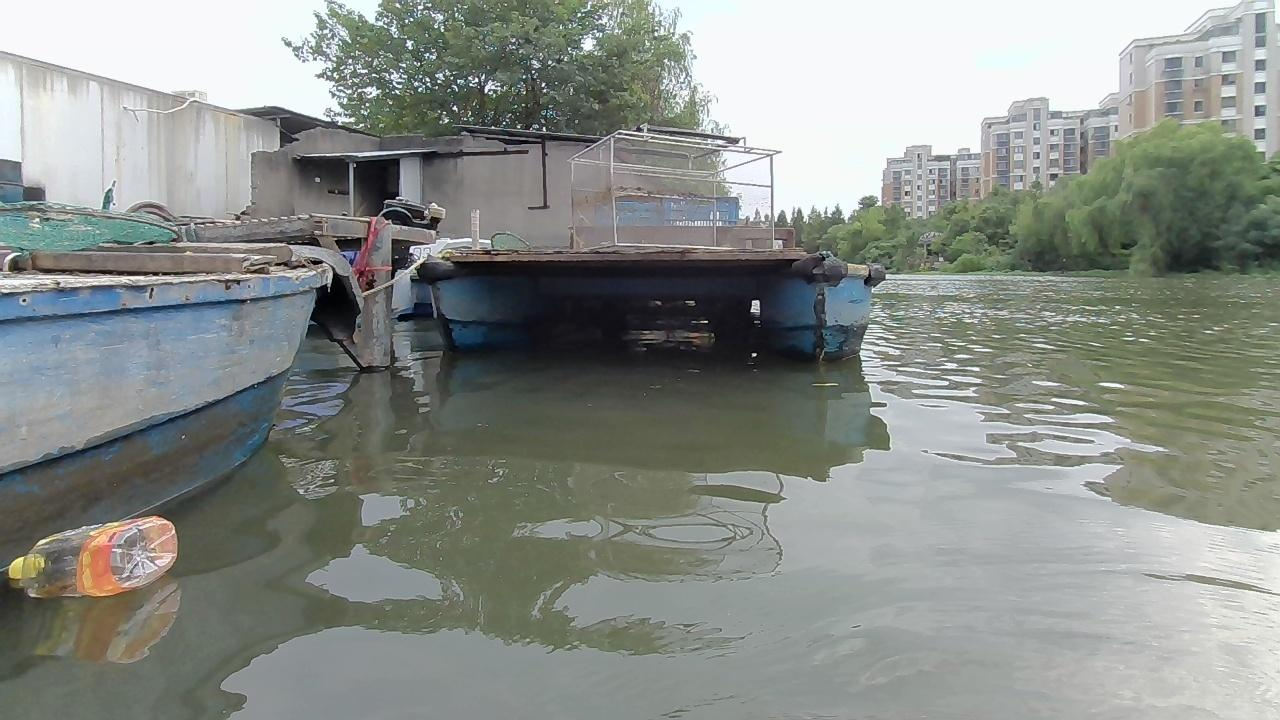bottle: (3, 510, 182, 606)
